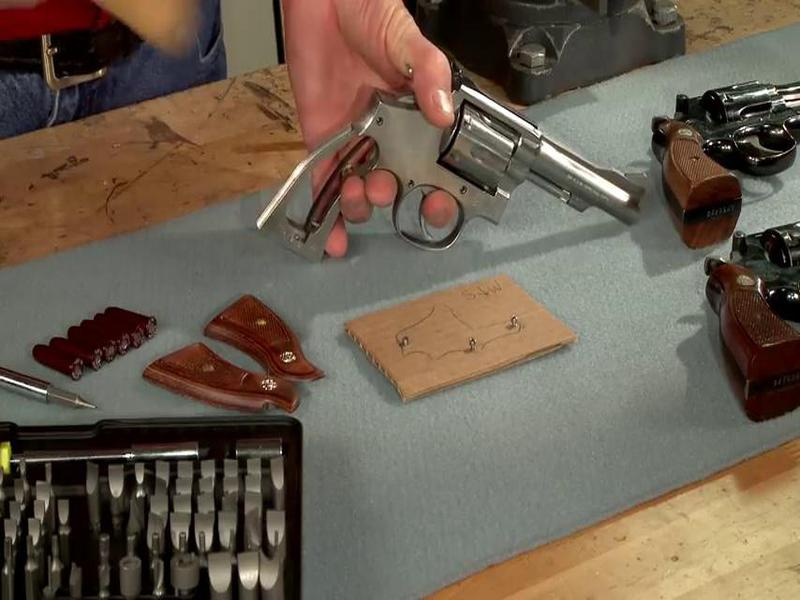Revolver: (259, 58, 656, 289)
